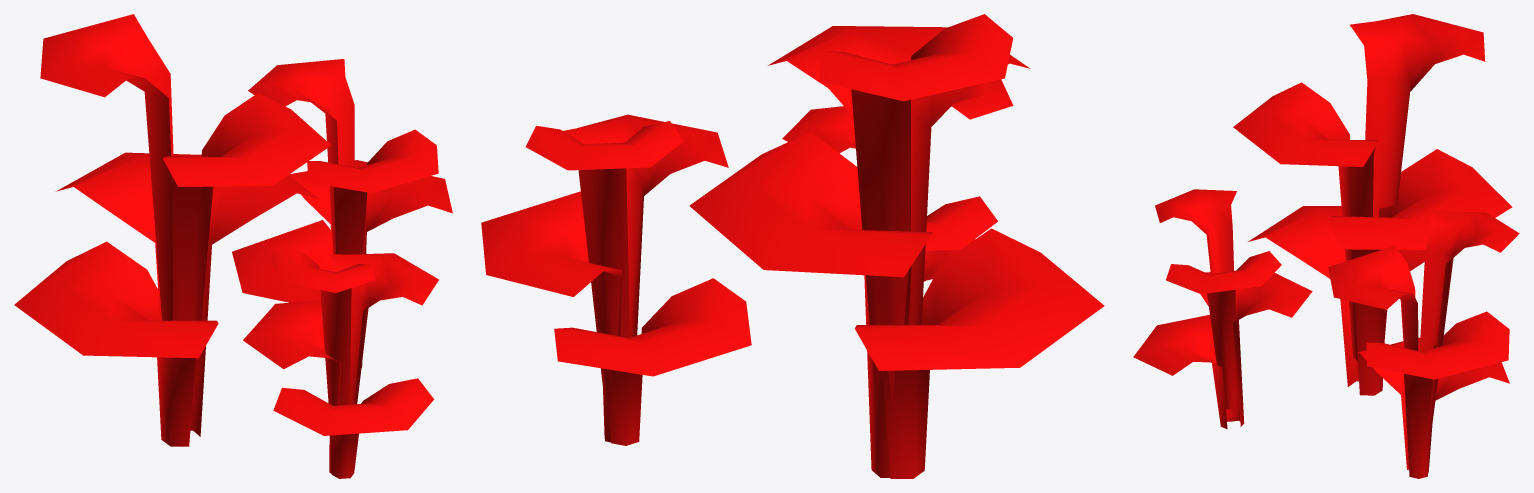
The model's file is Fungi_2.fbx.
3 renders of one model, left to right at view 1: azimuth 30°, elevation 25°; view 2: azimuth 150°, elevation 25°; view 3: azimuth 270°, elevation 25°, orthographic. The views are drawn at different scales.
Visible parts, largest first — view 1: Fungi_2; view 2: Fungi_2; view 3: Fungi_2.
Boxes of the visible parts, <box> form: Fungi_2: <box>14,14,452,478</box>; Fungi_2: <box>481,14,1104,478</box>; Fungi_2: <box>1133,14,1519,478</box>.
Size of the model in its own units: 373 by 313 by 324.
